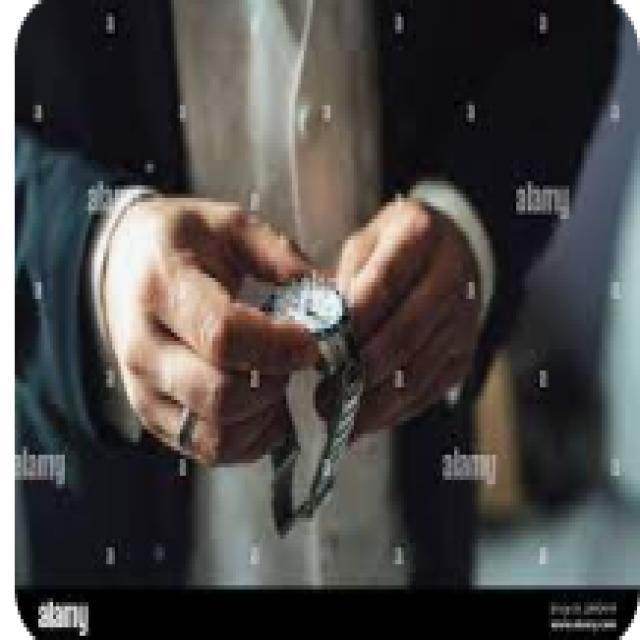Watch: (260, 274, 362, 532)
